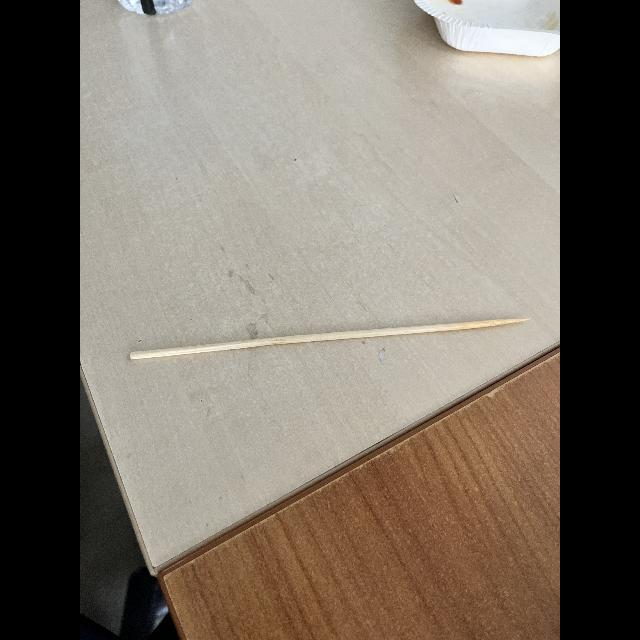stick: (122, 300, 530, 366)
